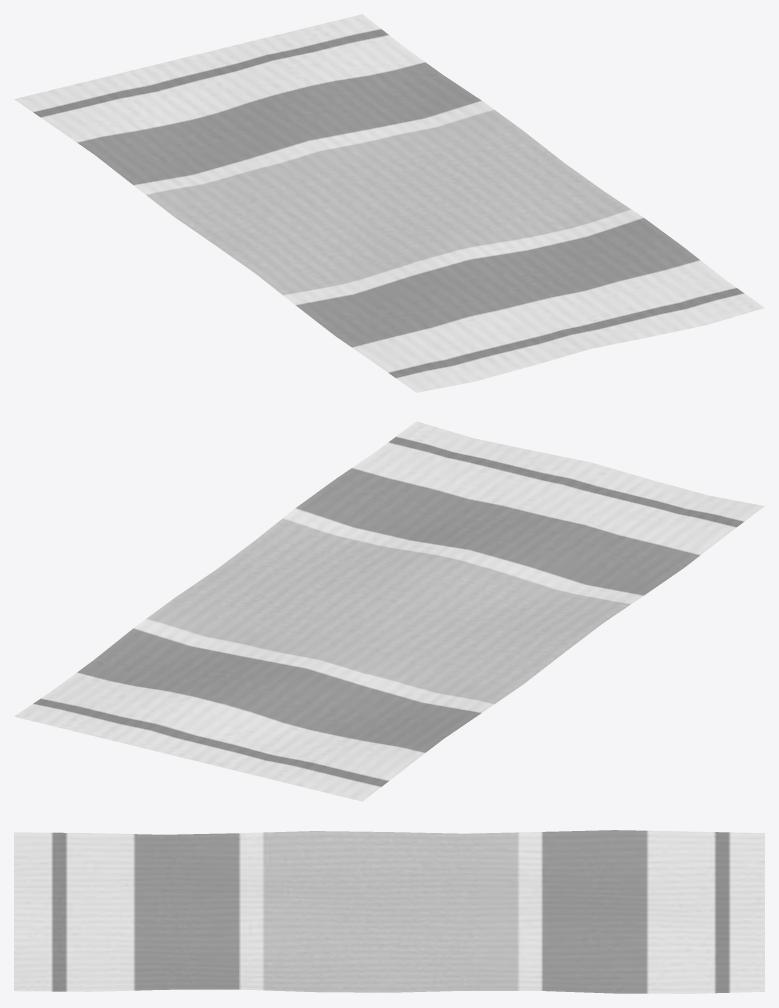
The model's file is towel.gltf.
3 views of the same model, one above another, from view 1: azimuth 30°, elevation 25°; view 2: azimuth 150°, elevation 25°; view 3: azimuth 270°, elevation 25° (orthographic). The views are drawn at different scales.
Visible parts, largest first — view 1: towel_body; view 2: towel_body; view 3: towel_body.
Boxes of the visible parts, x1,y1,x2,y2 form: towel_body: (14,14,764,392); towel_body: (14,421,764,801); towel_body: (14,830,764,993).
Bounding box in the file's own units: 0.85 × 0.0155 × 1.7.
Materials: 1 (1 with a texture image).
